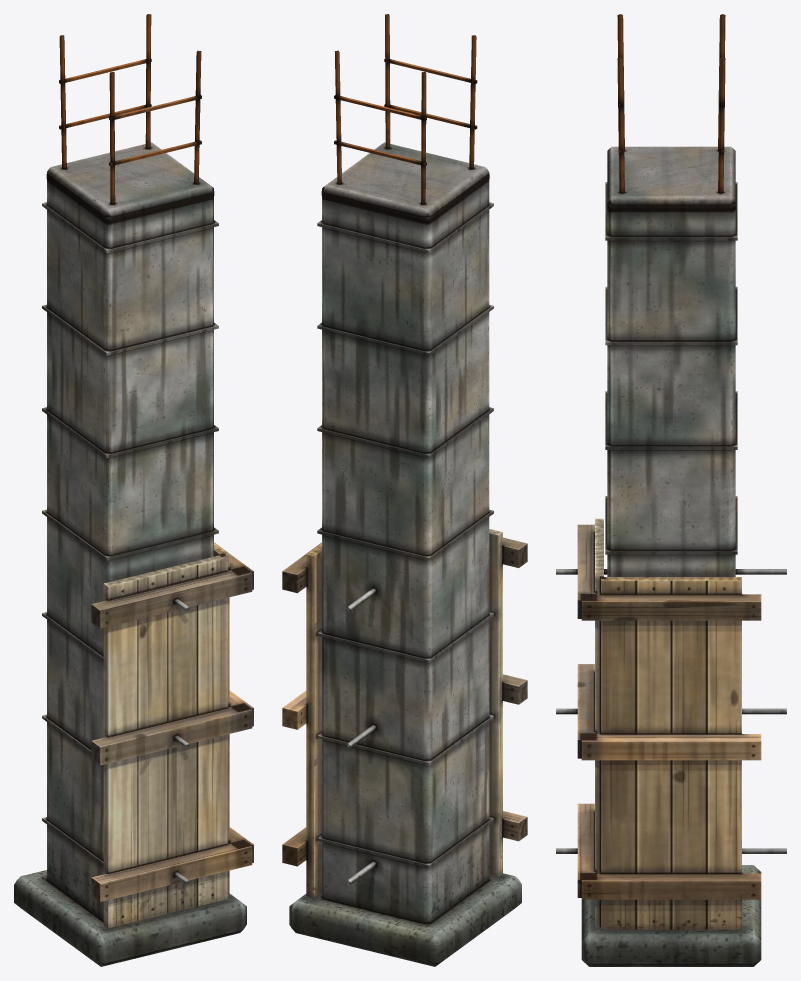
File: pilar_forma.glb
3 renders of one model, left to right at view 1: azimuth 30°, elevation 25°; view 2: azimuth 150°, elevation 25°; view 3: azimuth 270°, elevation 25°, orthographic. The views are drawn at different scales.
Parts seen in each view (by area): view 1: pilar_forma; view 2: pilar_forma; view 3: pilar_forma.
Boxes of the visible parts, x1,y1,x2,y2 form: pilar_forma: [14, 14, 253, 966]; pilar_forma: [282, 14, 527, 966]; pilar_forma: [556, 14, 786, 966].
Bounding box in the file's own units: 0.715 × 3.85 × 0.9.
Materials: 1 (1 with a texture image).
